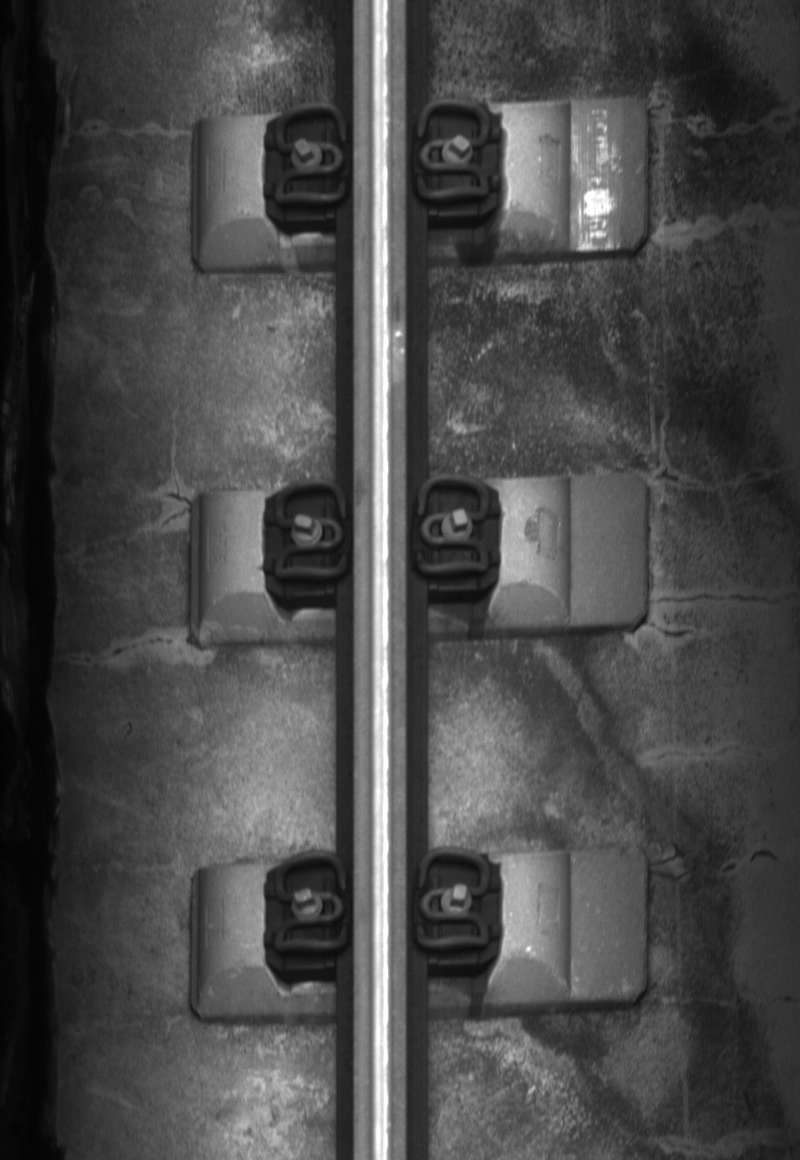l_faster: (268, 99, 353, 215), (267, 847, 353, 961), (267, 475, 353, 588)
r_faster: (412, 845, 493, 956), (412, 97, 493, 207), (413, 473, 494, 582)
